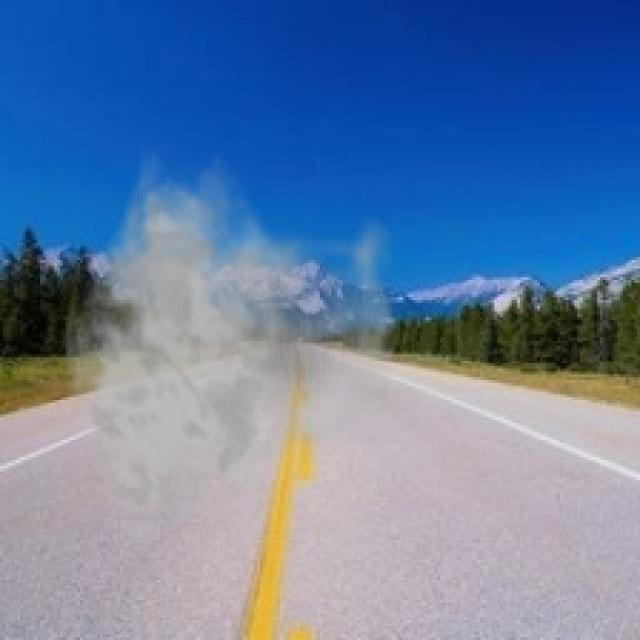smoke: (63, 145, 428, 546)
